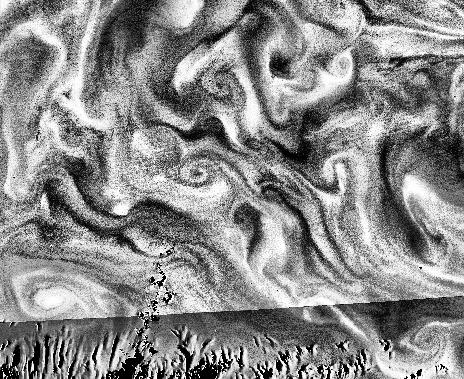CE: (17, 278, 82, 318), (407, 326, 448, 357), (177, 157, 212, 185), (332, 50, 355, 83)
